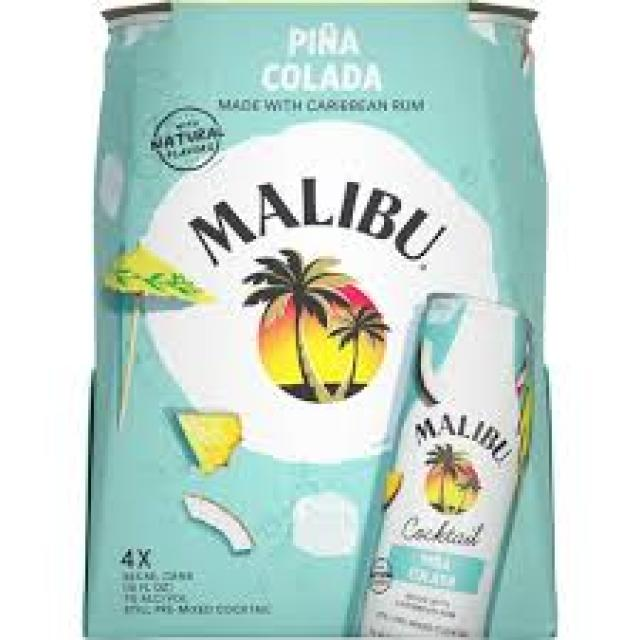Cans: (347, 284, 532, 640)
